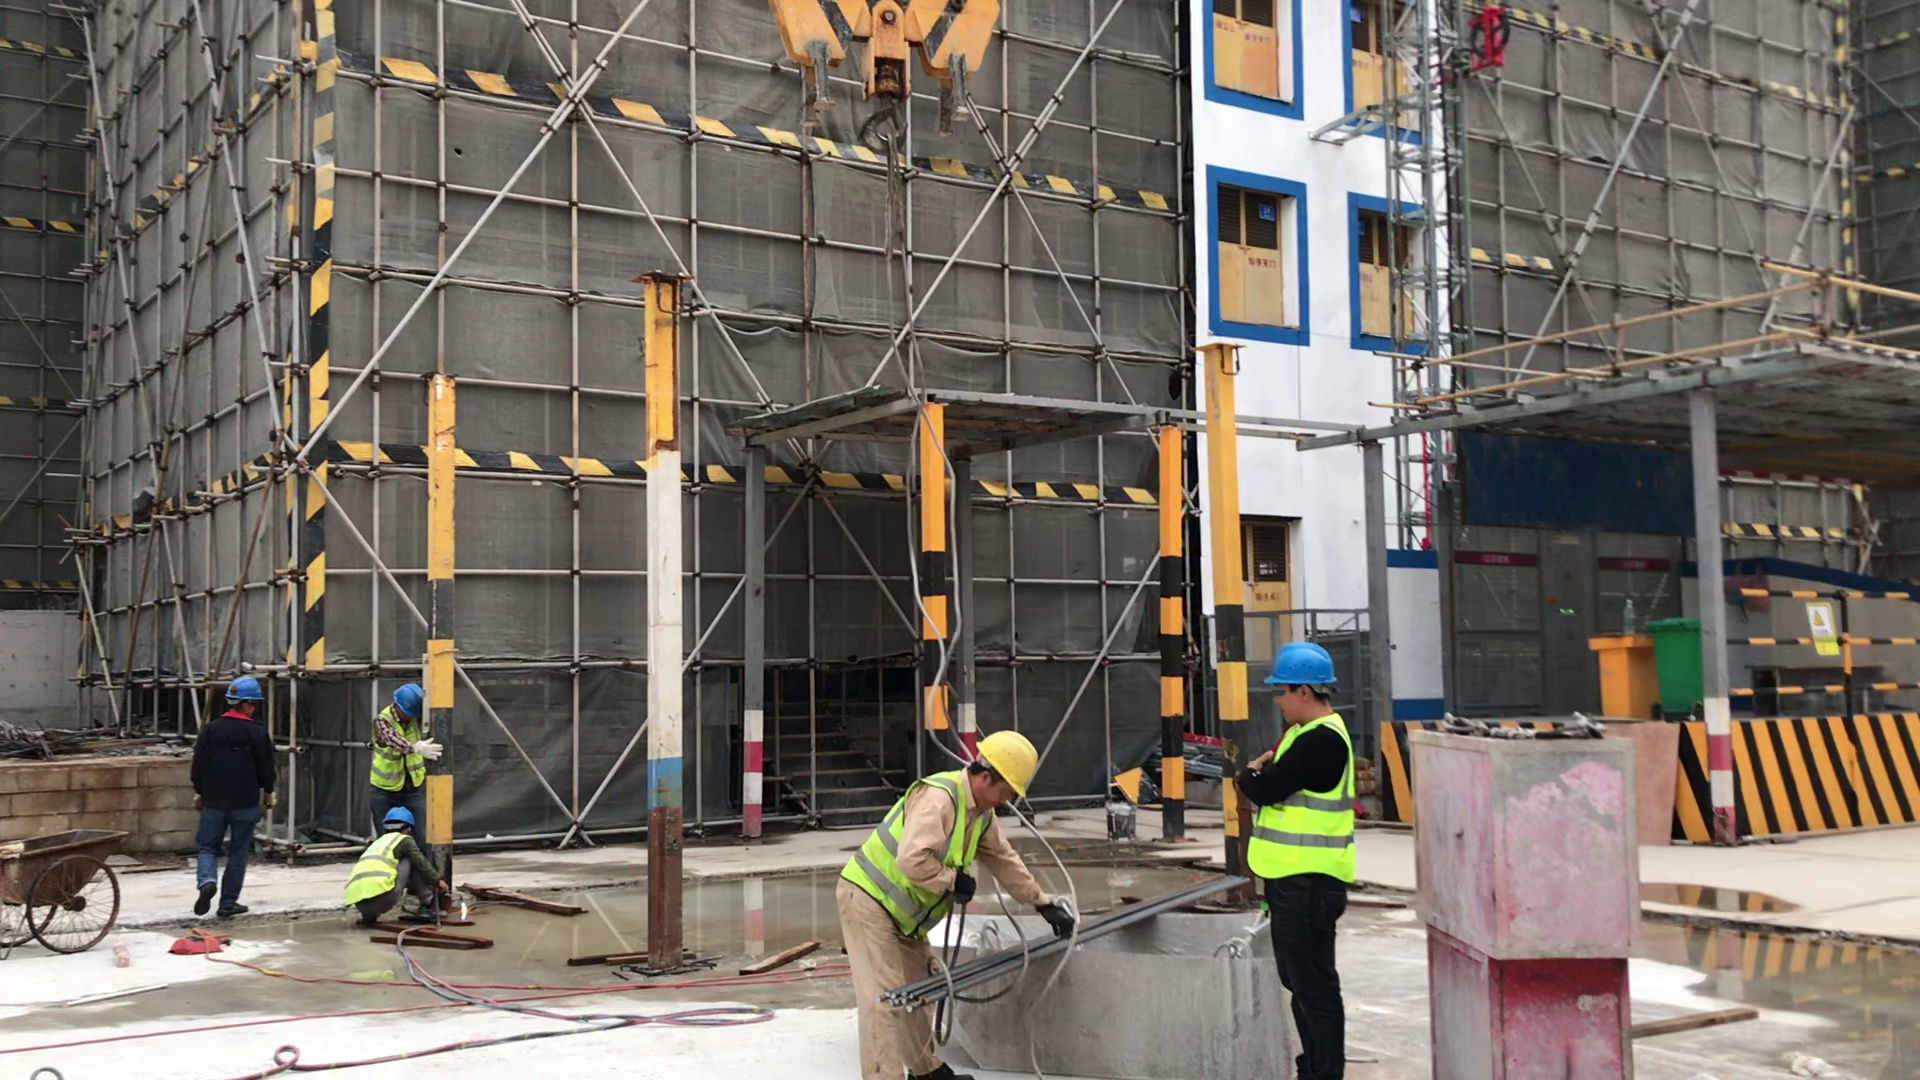fence: (1719, 580, 1920, 723)
handcart: (1, 808, 154, 978)
helmet: (970, 710, 1047, 819), (1254, 638, 1371, 695), (216, 669, 283, 706), (367, 801, 431, 838), (390, 680, 431, 724)
hook: (719, 4, 1079, 220)
hopper: (891, 882, 1321, 1080)
person: (833, 708, 1074, 1080), (1224, 631, 1394, 1080), (183, 666, 281, 922), (347, 801, 469, 947), (370, 666, 444, 831)
rebar: (883, 882, 1231, 1022)
slogan: (1790, 593, 1849, 668)
vest: (836, 765, 998, 958), (1241, 709, 1378, 887), (359, 704, 436, 795), (340, 831, 426, 903)
